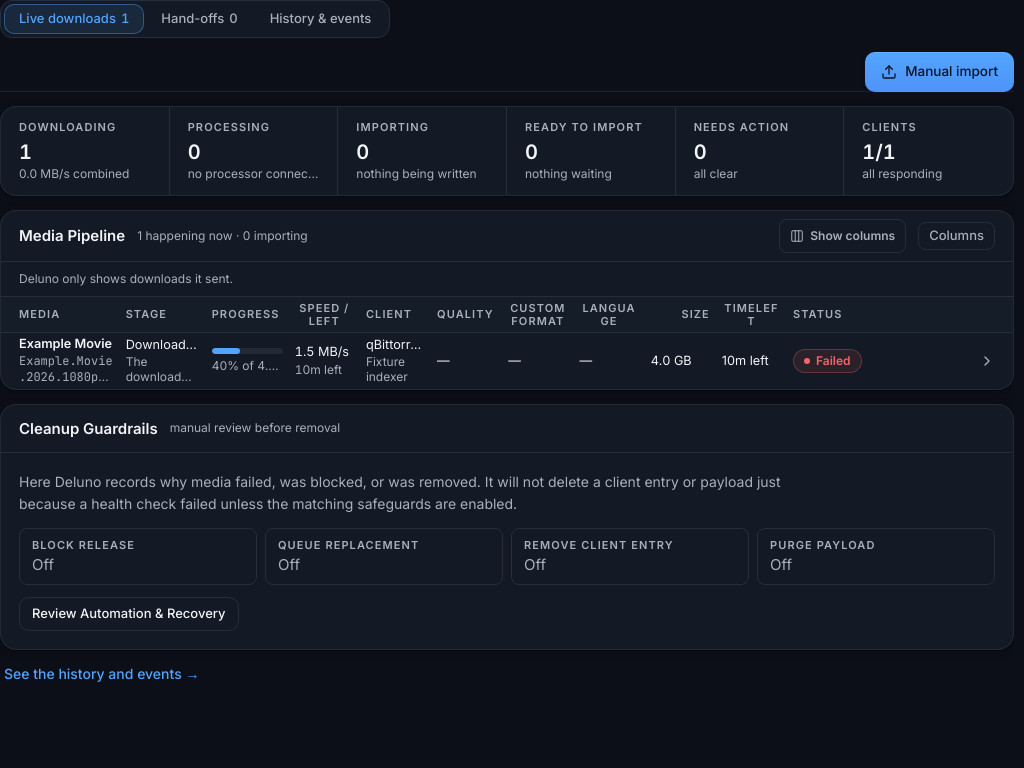
Test case: download drawer: Health section › shows an integration failure under Health
Click the text "Example.Movie.2026.1080p.WEB-DL-GROUP" at (507, 360), box 1,332 -> 1013,388
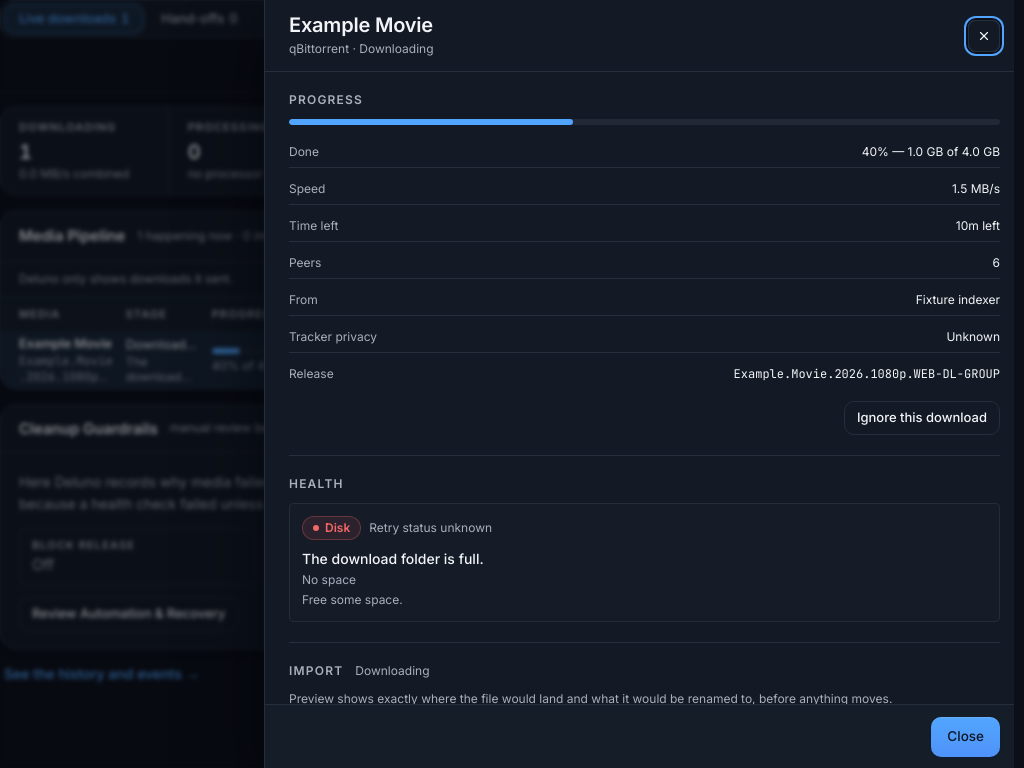
Check: the text "Health" is shown, box 289,476 -> 344,491
Check: the text "The download folder is full." is shown, box 302,550 -> 484,567
